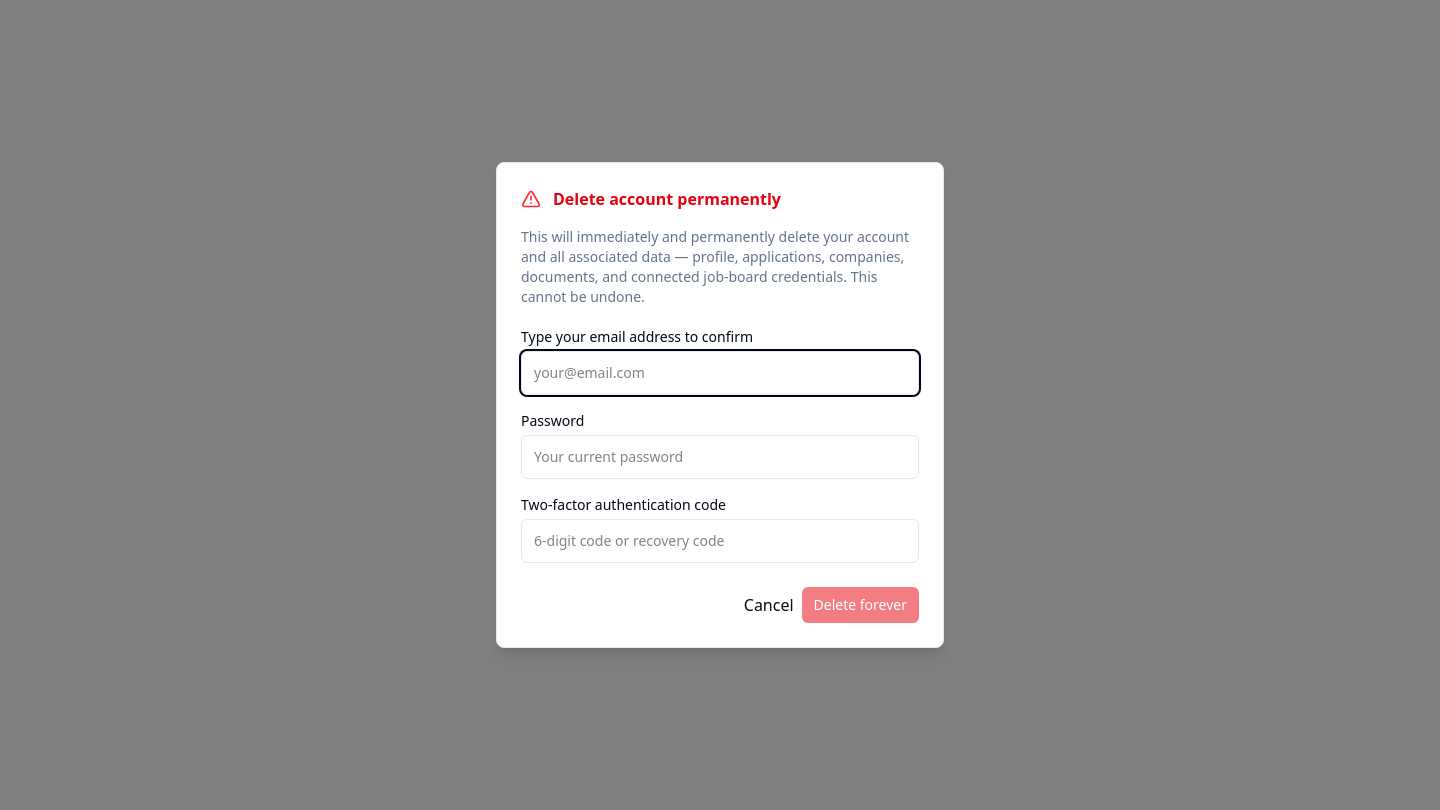
DeleteAccountModal › requires a 6+ char TOTP code before enabling delete when 2FA is on
Type "user@example.com" into the field labelled "Type your email address to confirm" at (720, 373), box [521,351,919,395]
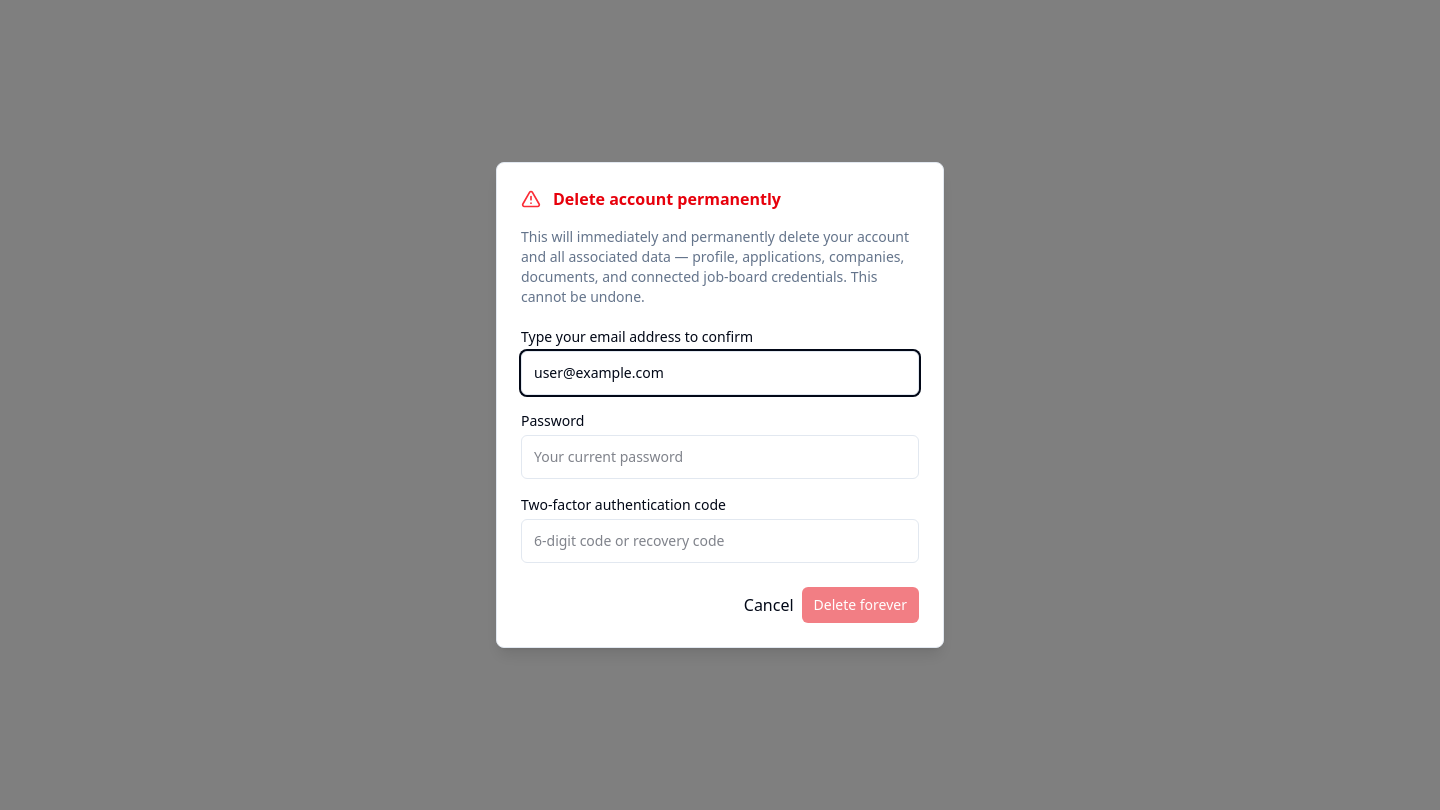
Type "secret123!" into the password field labelled "Password" at (720, 457), box [521,435,919,479]
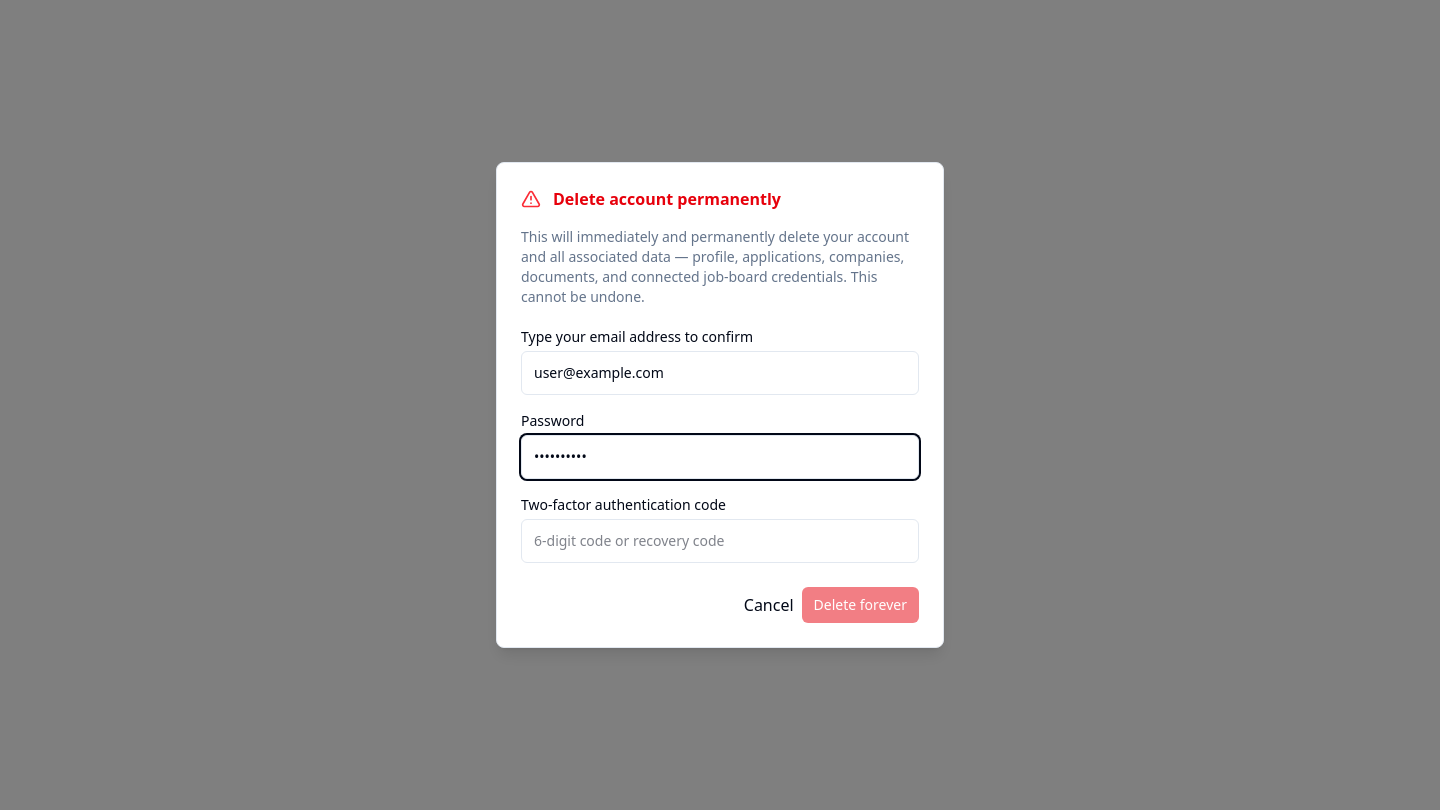
Expected: the button "Delete forever" is disabled, [802,587,919,623]
Type "12345" into the field labelled "Two-factor authentication code" at (720, 541), box [521,519,919,563]
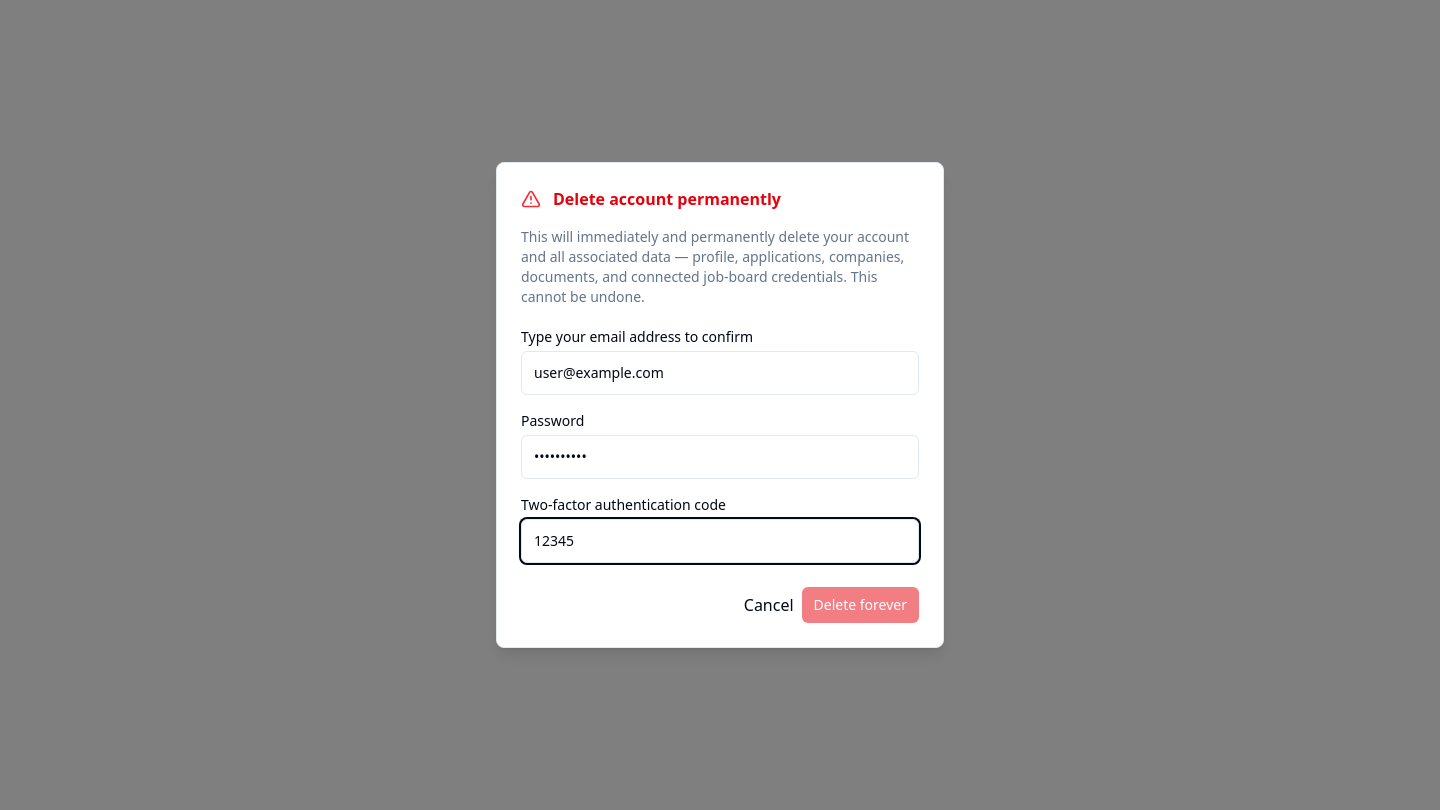
Expected: the button "Delete forever" is disabled, [802,587,919,623]
Type "6" into the field labelled "Two-factor authentication code" at (720, 541), box [521,519,919,563]
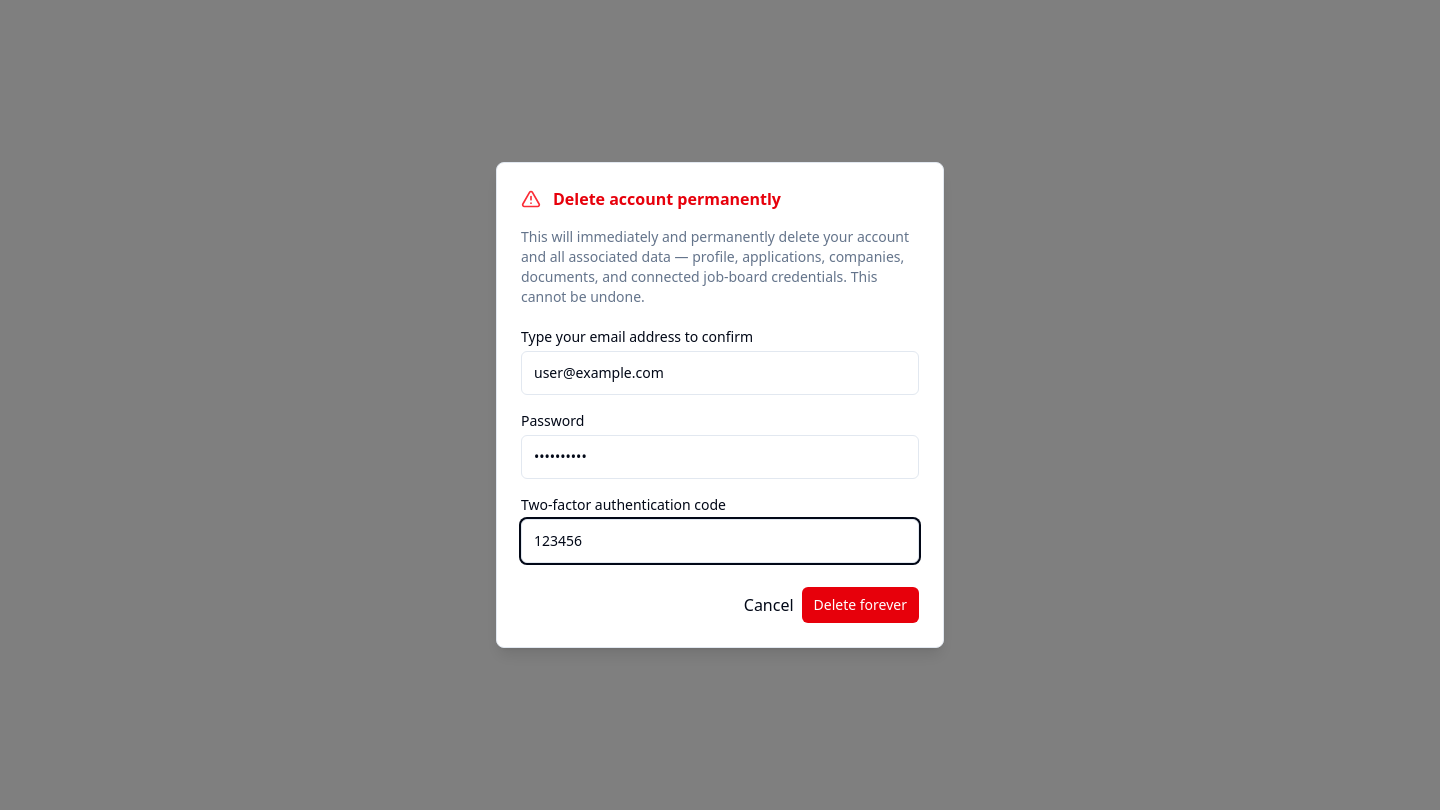
Result: the button "Delete forever" is enabled at [802,587,919,623]
